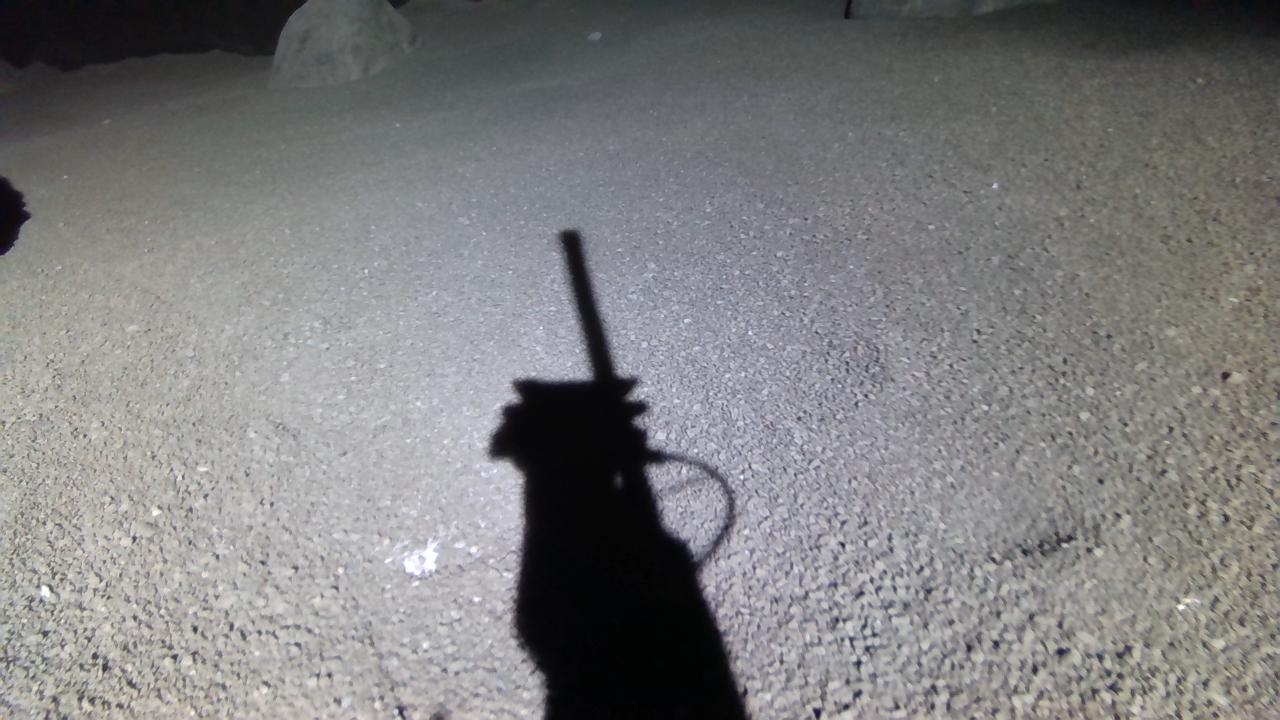rock: (268, 0, 416, 87), (850, 0, 1033, 18)
